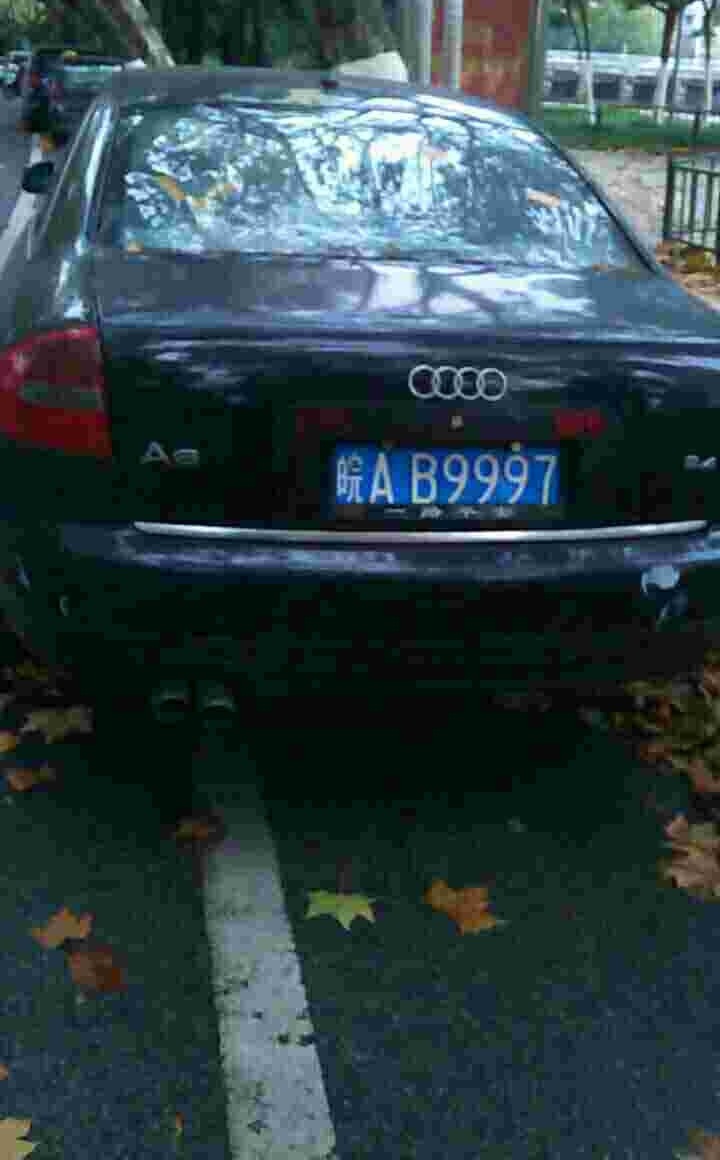car: (325, 440, 571, 520)
